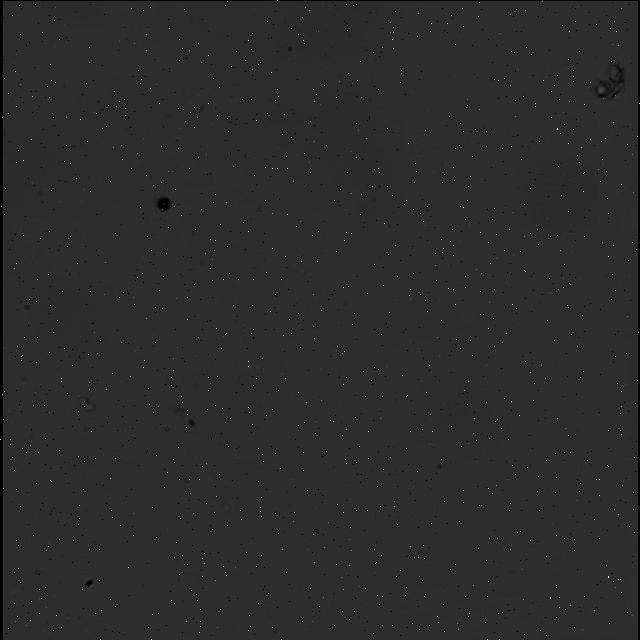microbeads: (152, 195, 178, 215)
